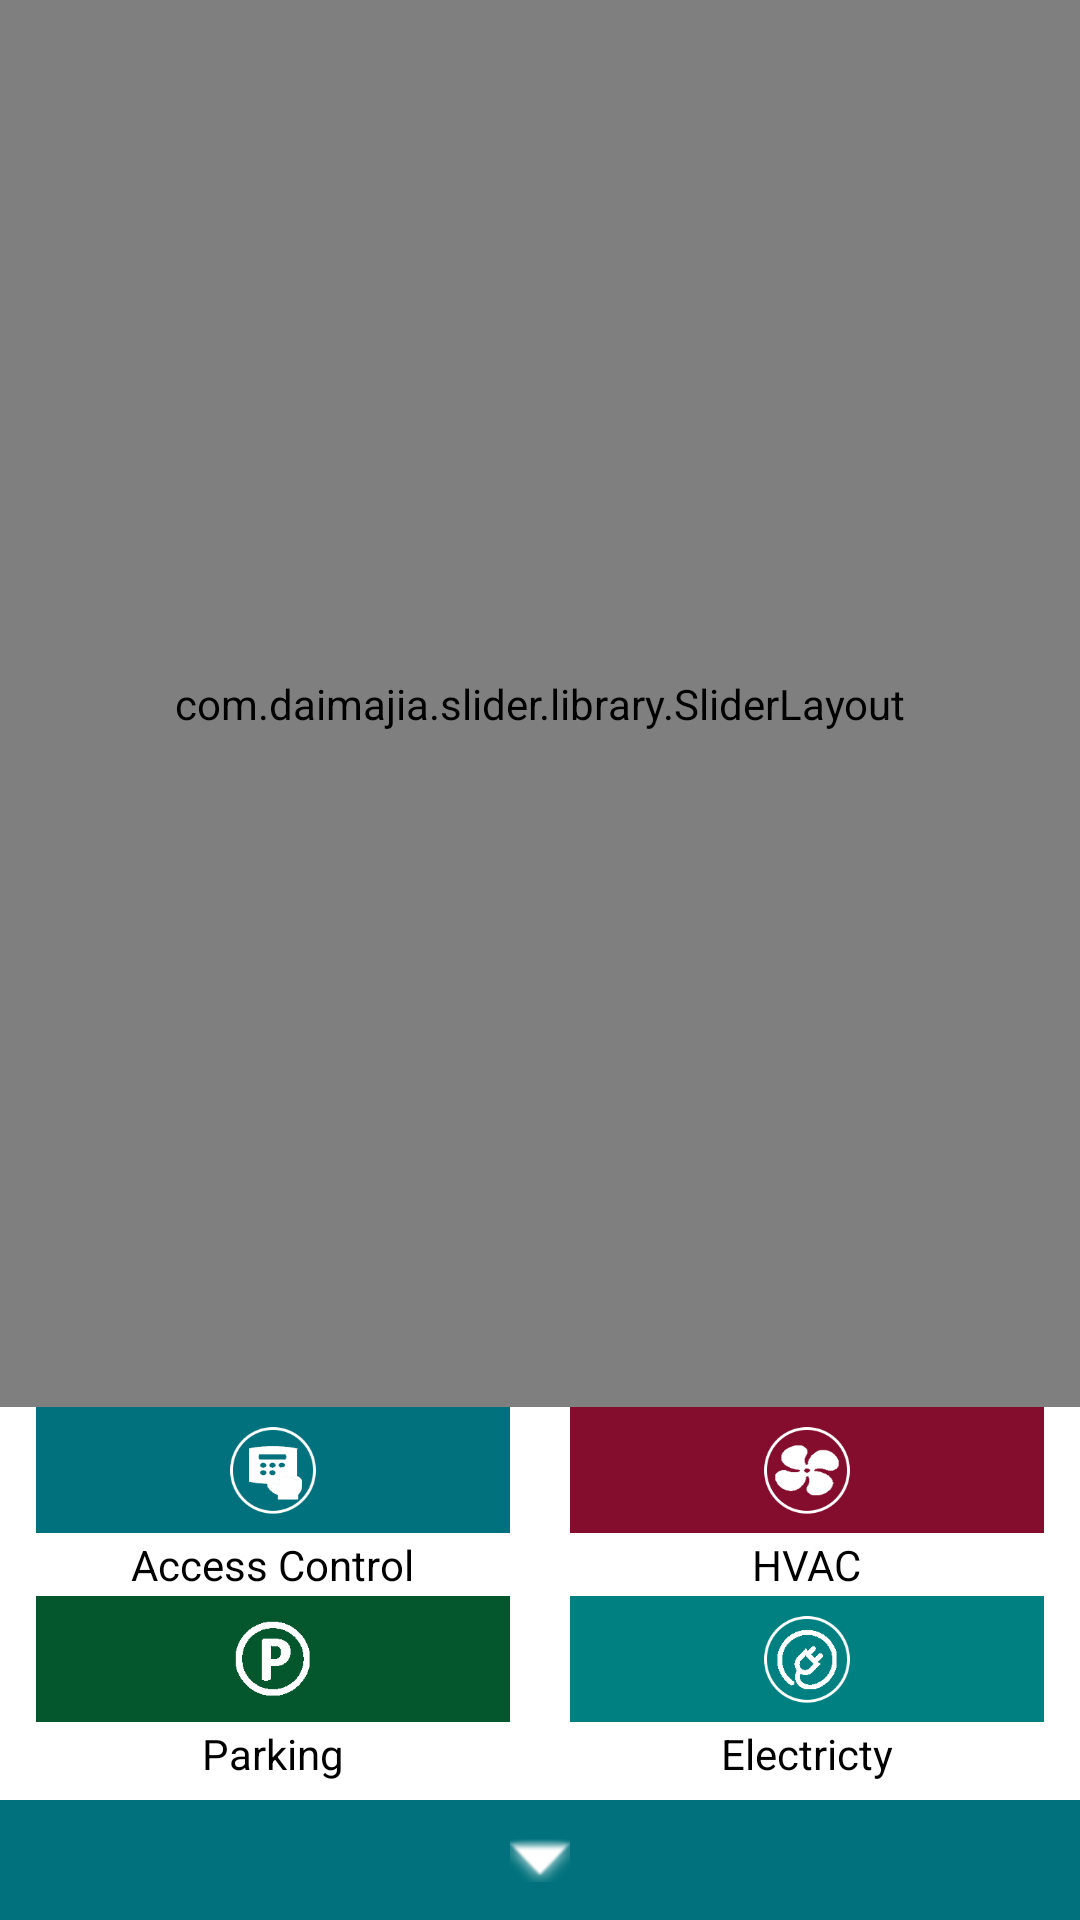

Named icons in this screenshot (1080w x 1920h) and their bounding boxes, (x1, y1, x2, y2):
arrow down float: (510, 1840, 570, 1881)
